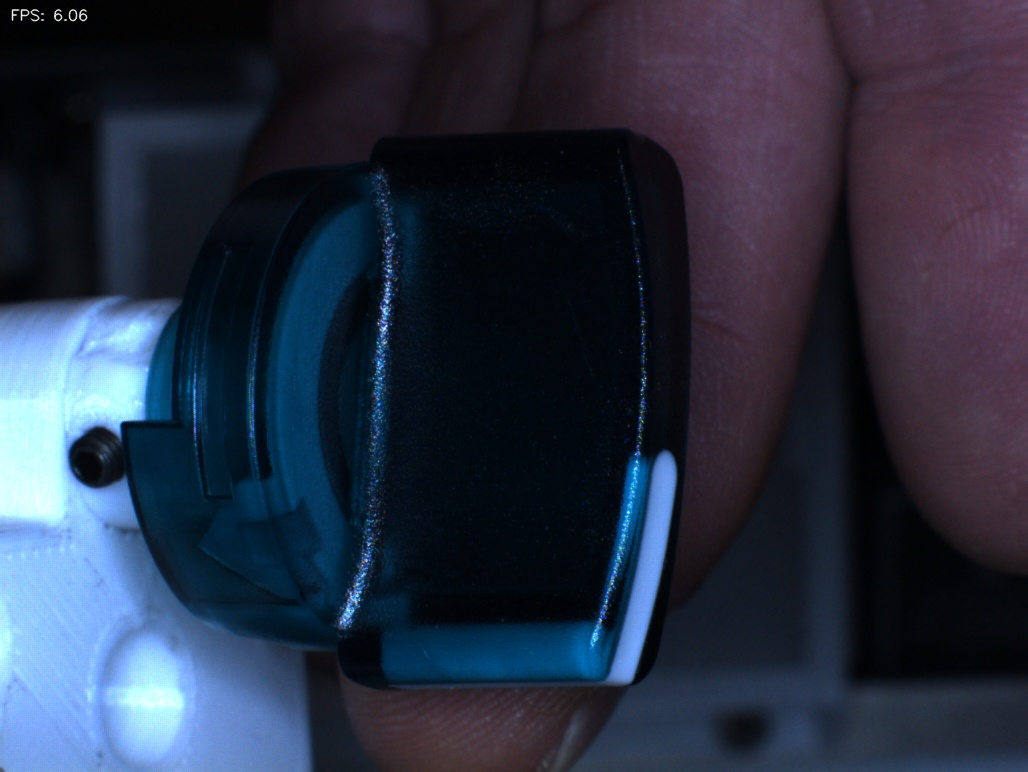Givrage: (550, 278, 631, 430), (479, 157, 588, 252)
